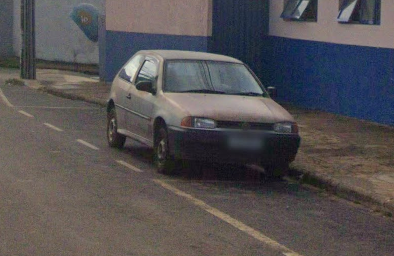car: (103, 46, 304, 192)
